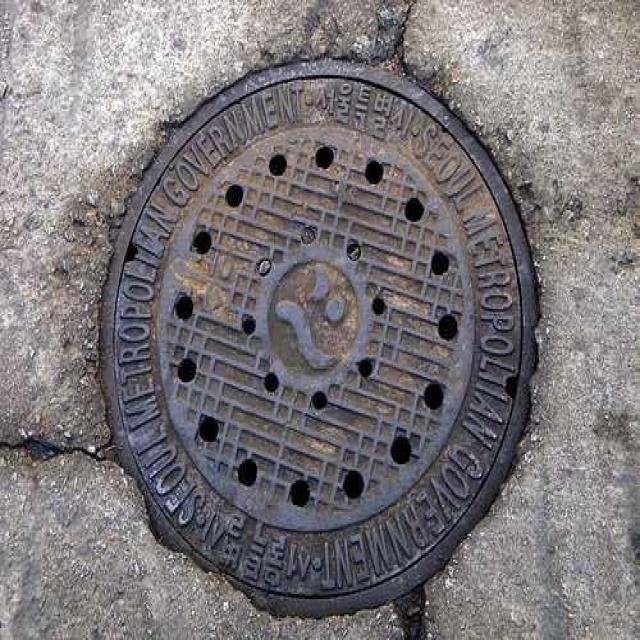manhole: (101, 60, 536, 616)
